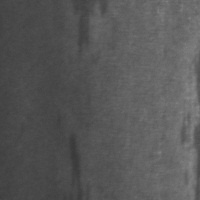inclusion: (58, 124, 93, 199), (68, 0, 101, 61), (170, 100, 198, 151)
